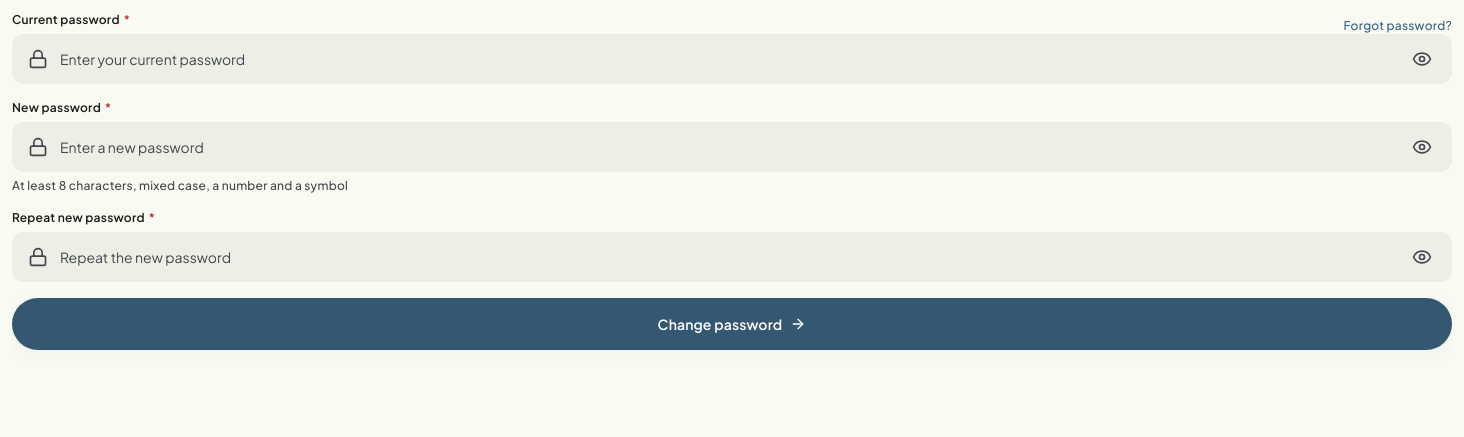
PasswordForm for an account with a password › submits what was typed, and empties the boxes once it worked
In the password field labelled "Current password": (732, 59) [12,34,1452,84], type "oldpass"
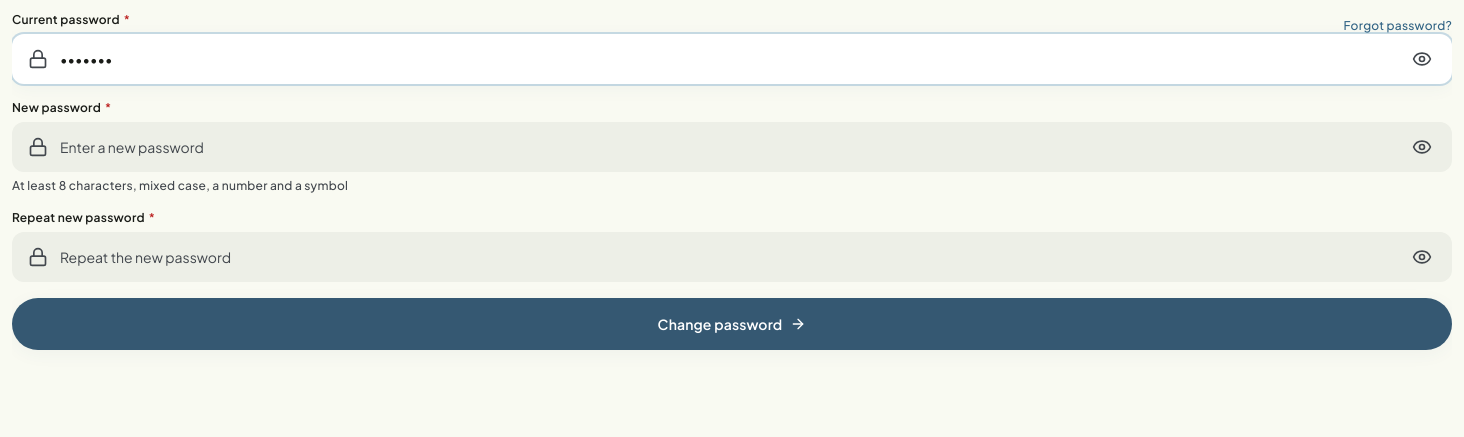
In the password field labelled "New password": (732, 147) [12,122,1452,172], type "Chores12!"
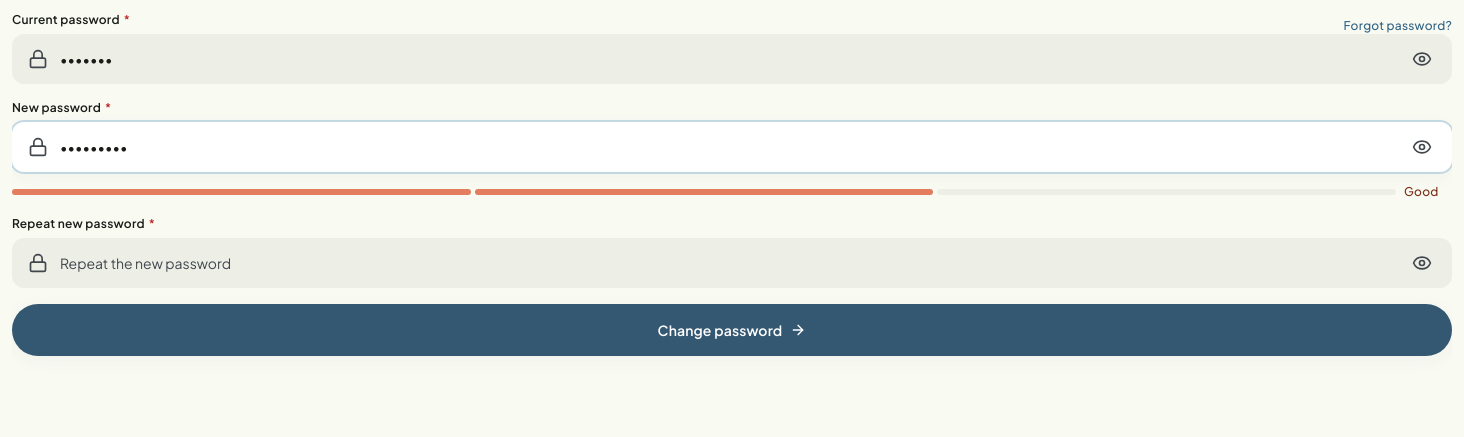
In the password field labelled "Repeat new password": (732, 263) [12,238,1452,288], type "Chores12!"
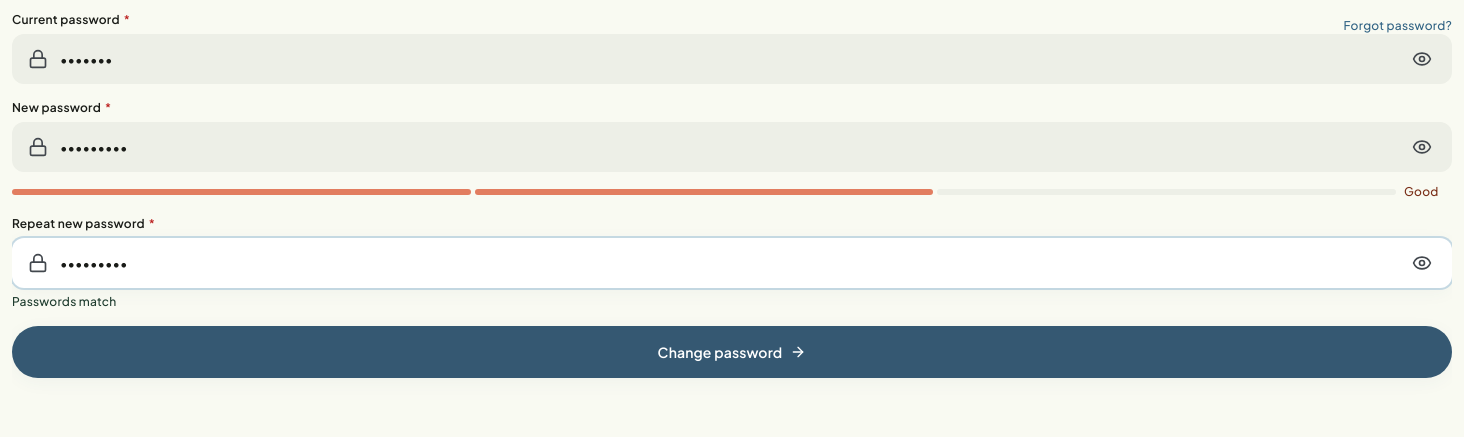
Click the button "Change password": (732, 352) [12,326,1452,378]
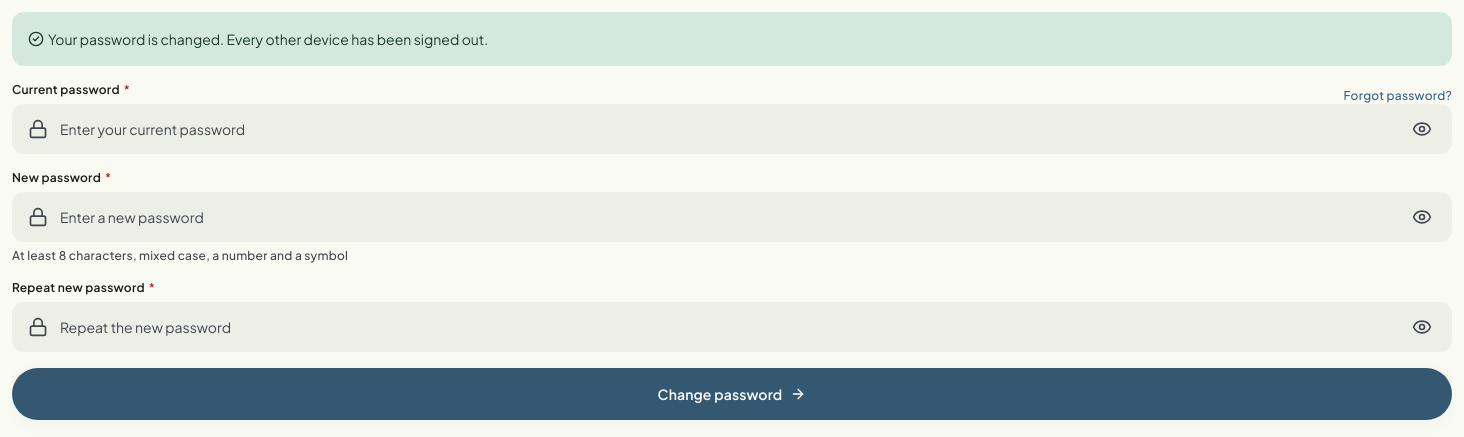
Expected: the text "Your password is changed" is shown, [48,30,488,48]
Expected: the password field labelled "New password" is empty, [12,192,1452,242]
